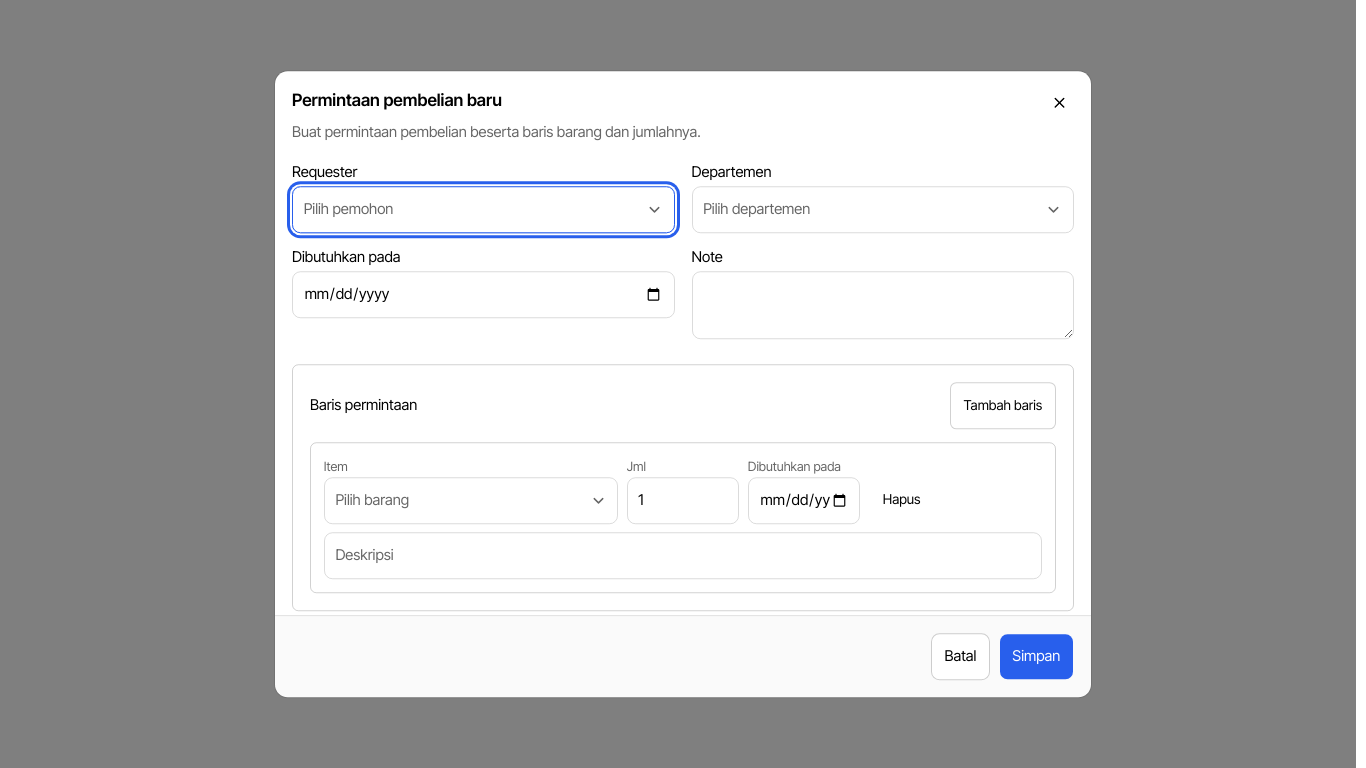
PurchaseRequestFormDialog › requires a requester before saving
Click the button "Simpan" at (1036, 656), box [999,633,1074,680]
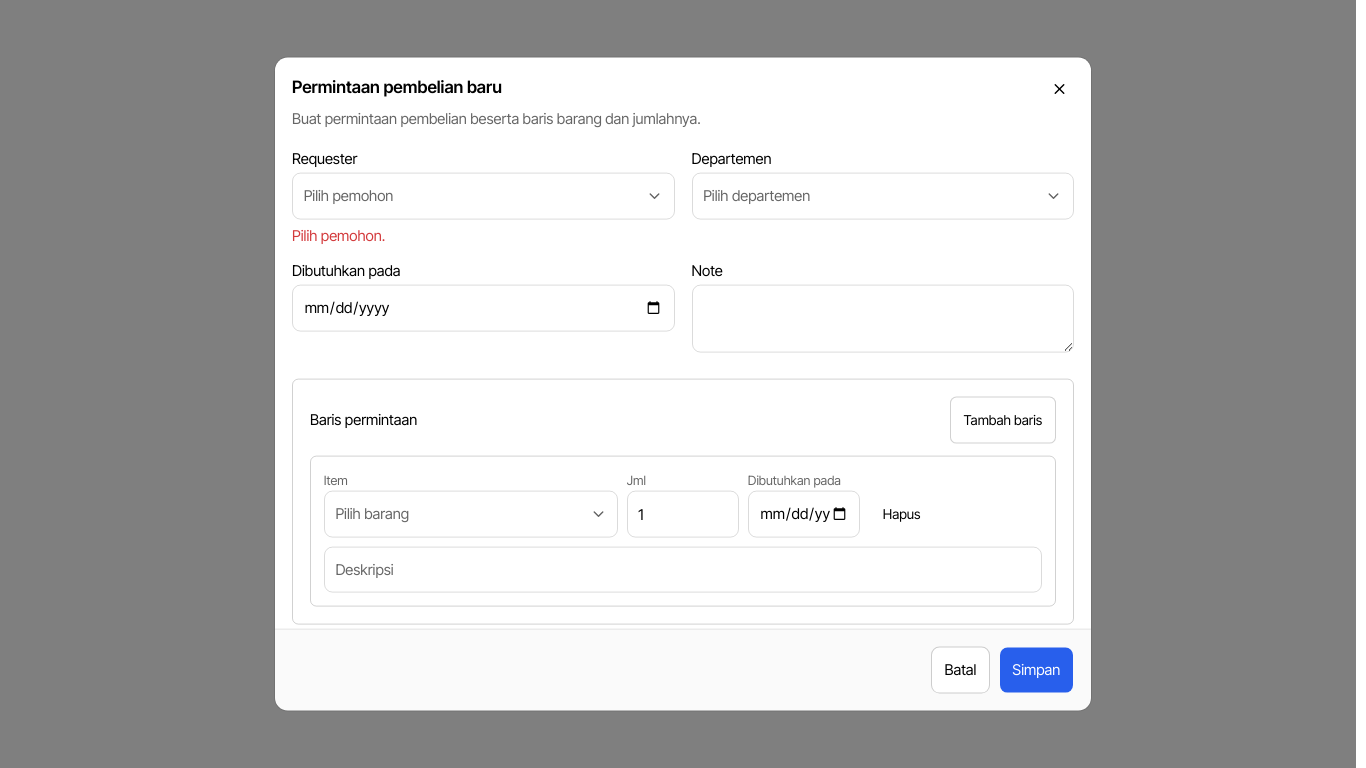
Expected: the text "Pilih pemohon." is shown, [292,226,385,244]
